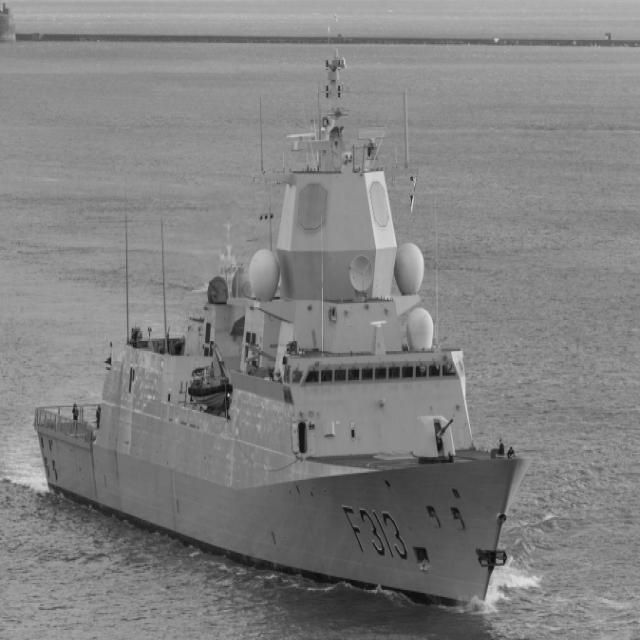Fragata: (26, 35, 528, 621)
